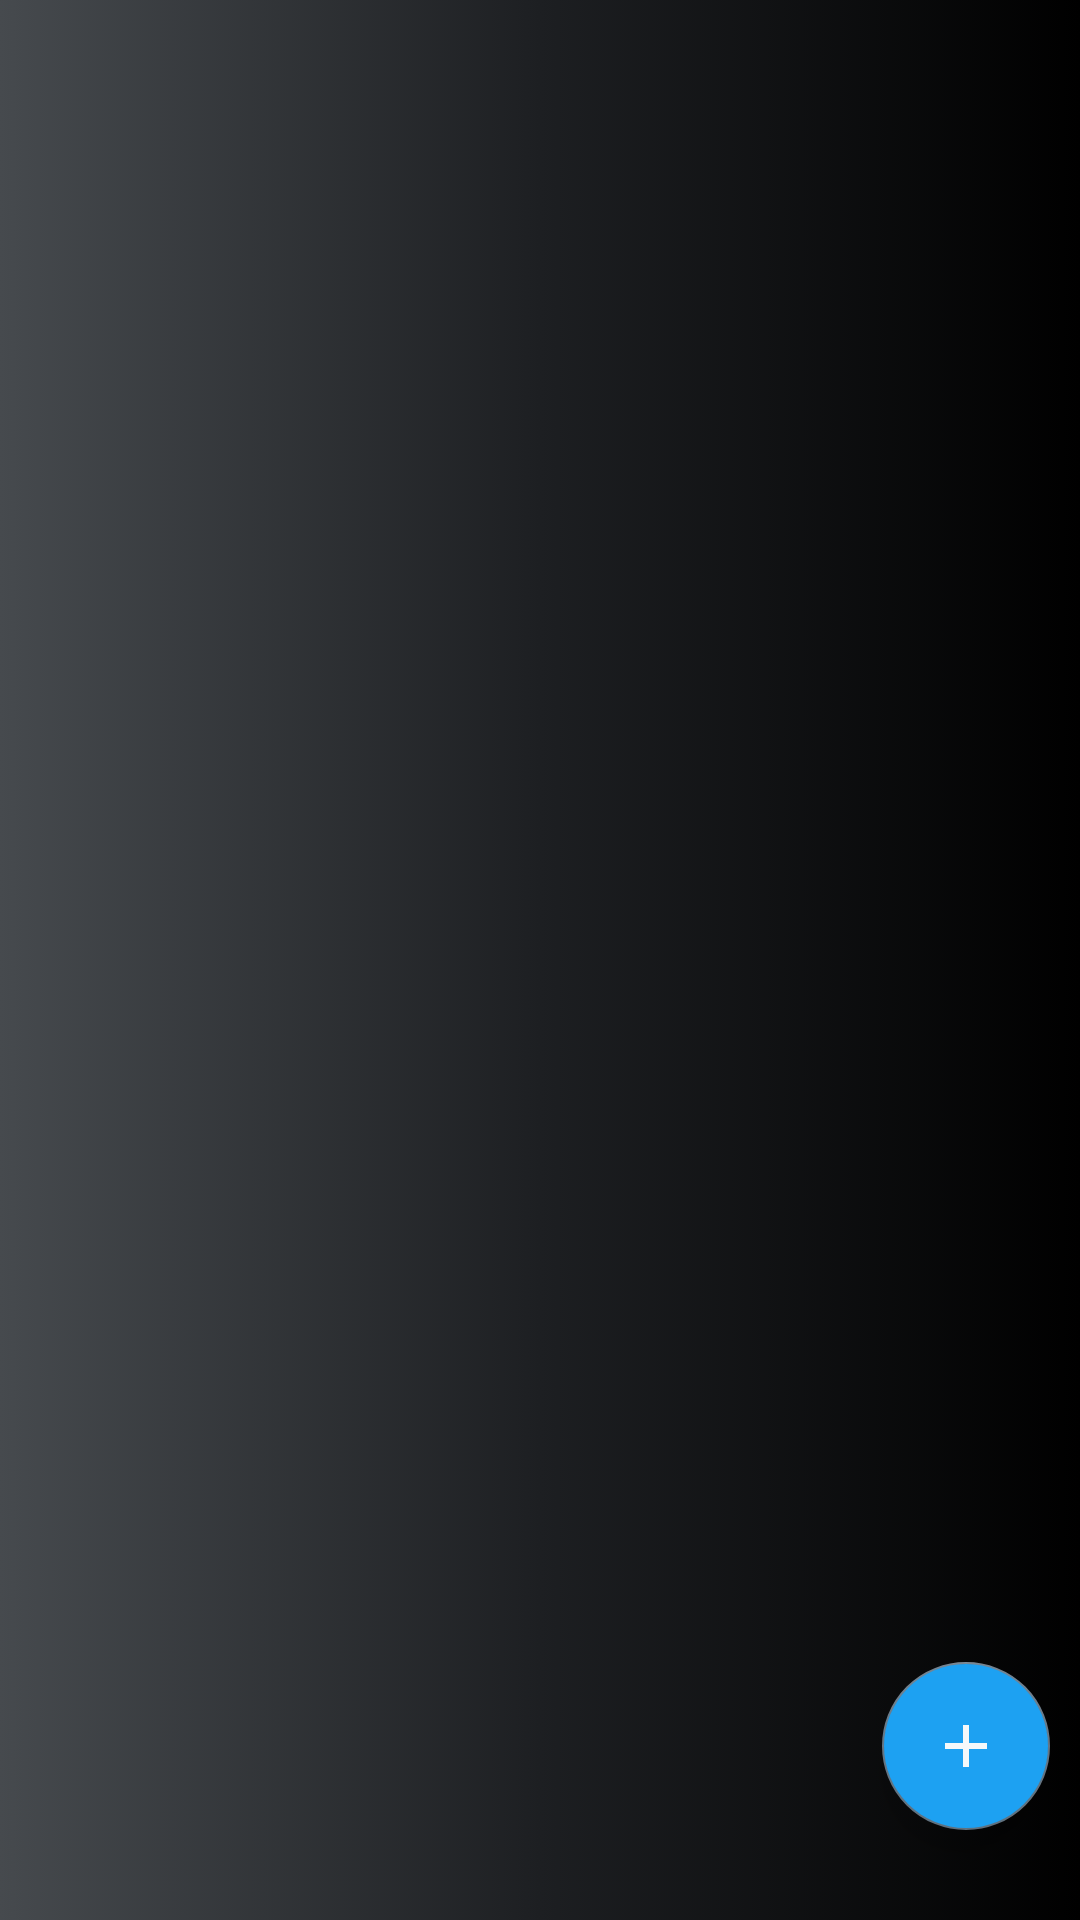

Icon click points for this 1080px×1920px phone screenshot, format [x,y]:
create new: [966,1746]
